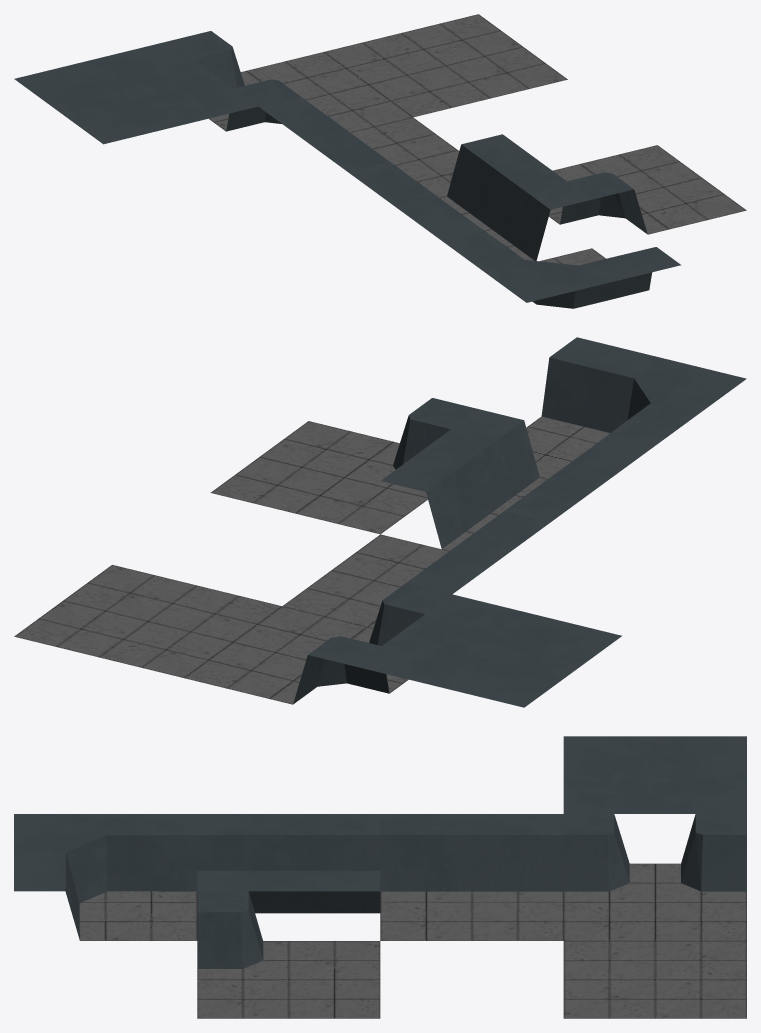
The model's file is tileset.fbx.
3 renders of one model, top to bottom at view 1: azimuth 30°, elevation 25°; view 2: azimuth 150°, elevation 25°; view 3: azimuth 270°, elevation 25°, orthographic. The views are drawn at different scales.
Visible parts, largest first — view 1: 127_0_00_MSH.001, 127_0_00_MSH, 17_0_01_MSH, 95_0_32_MSH.001, 95_0_32_MSH, 7_0_02_MSH, 31_0_08_MSH; view 2: 7_0_02_MSH, 17_0_01_MSH, 127_0_00_MSH.001, 127_0_00_MSH, 95_0_32_MSH.001, 95_0_32_MSH, 31_0_08_MSH; view 3: 31_0_08_MSH, 7_0_02_MSH, 95_0_32_MSH, 95_0_32_MSH.001, 17_0_01_MSH, 127_0_00_MSH, 127_0_00_MSH.001.
Part boxes in pixels (bbox=[...]): 127_0_00_MSH.001: bbox=[14, 41, 257, 144]; 127_0_00_MSH: bbox=[324, 14, 567, 117]; 17_0_01_MSH: bbox=[348, 134, 591, 260]; 95_0_32_MSH.001: bbox=[549, 145, 746, 234]; 95_0_32_MSH: bbox=[169, 31, 412, 132]; 7_0_02_MSH: bbox=[437, 227, 681, 308]; 31_0_08_MSH: bbox=[258, 96, 459, 197]; 7_0_02_MSH: bbox=[526, 337, 746, 479]; 17_0_01_MSH: bbox=[381, 409, 648, 550]; 127_0_00_MSH.001: bbox=[354, 594, 621, 707]; 127_0_00_MSH: bbox=[14, 565, 281, 677]; 95_0_32_MSH.001: bbox=[210, 398, 478, 534]; 95_0_32_MSH: bbox=[184, 583, 451, 704]; 31_0_08_MSH: bbox=[282, 511, 550, 628]; 31_0_08_MSH: bbox=[380, 814, 563, 940]; 7_0_02_MSH: bbox=[14, 814, 197, 940]; 95_0_32_MSH: bbox=[563, 814, 746, 940]; 95_0_32_MSH.001: bbox=[197, 891, 380, 1018]; 17_0_01_MSH: bbox=[197, 814, 380, 913]; 127_0_00_MSH: bbox=[563, 941, 746, 1018]; 127_0_00_MSH.001: bbox=[563, 736, 746, 813].
Size of the model in its own units: 3000 by 300 by 4000.
